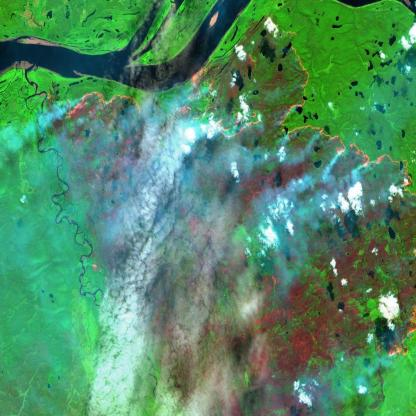fire: (48, 0, 416, 415)
